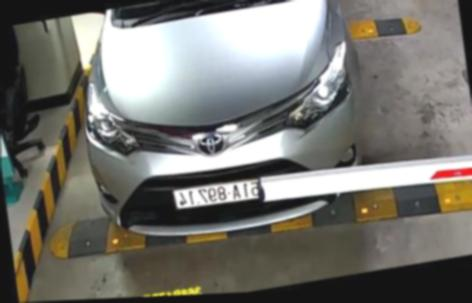License_Plate: (171, 172, 266, 219)
